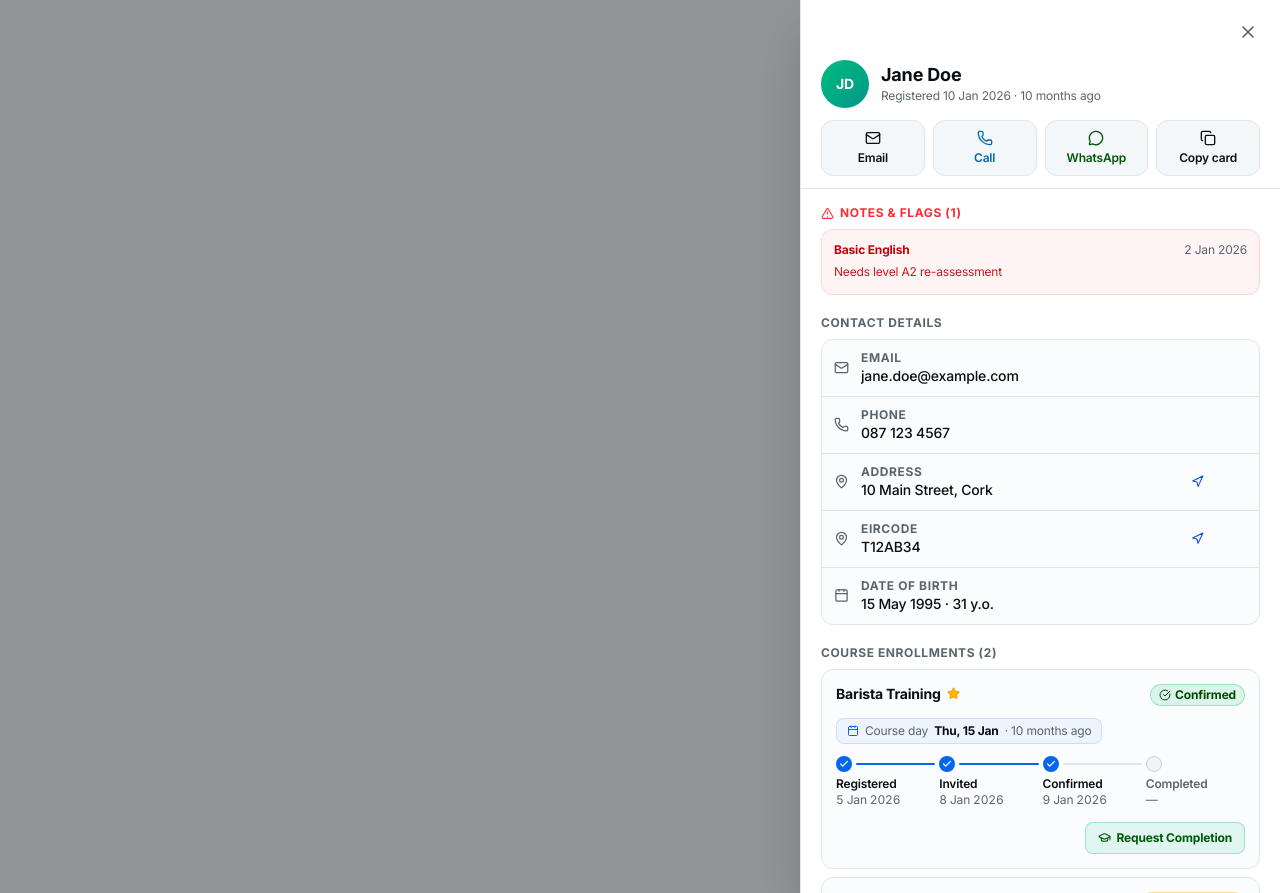
StudentDetailDrawer Component › copies a contact field on click with toast feedback
The width and height of the screenshot is (1280, 893).
Expected: the heading "Jane Doe" is shown, [881,64,962,85]
Click the button "jane.doe@example.com" at (940, 376), box [861,366,1019,386]
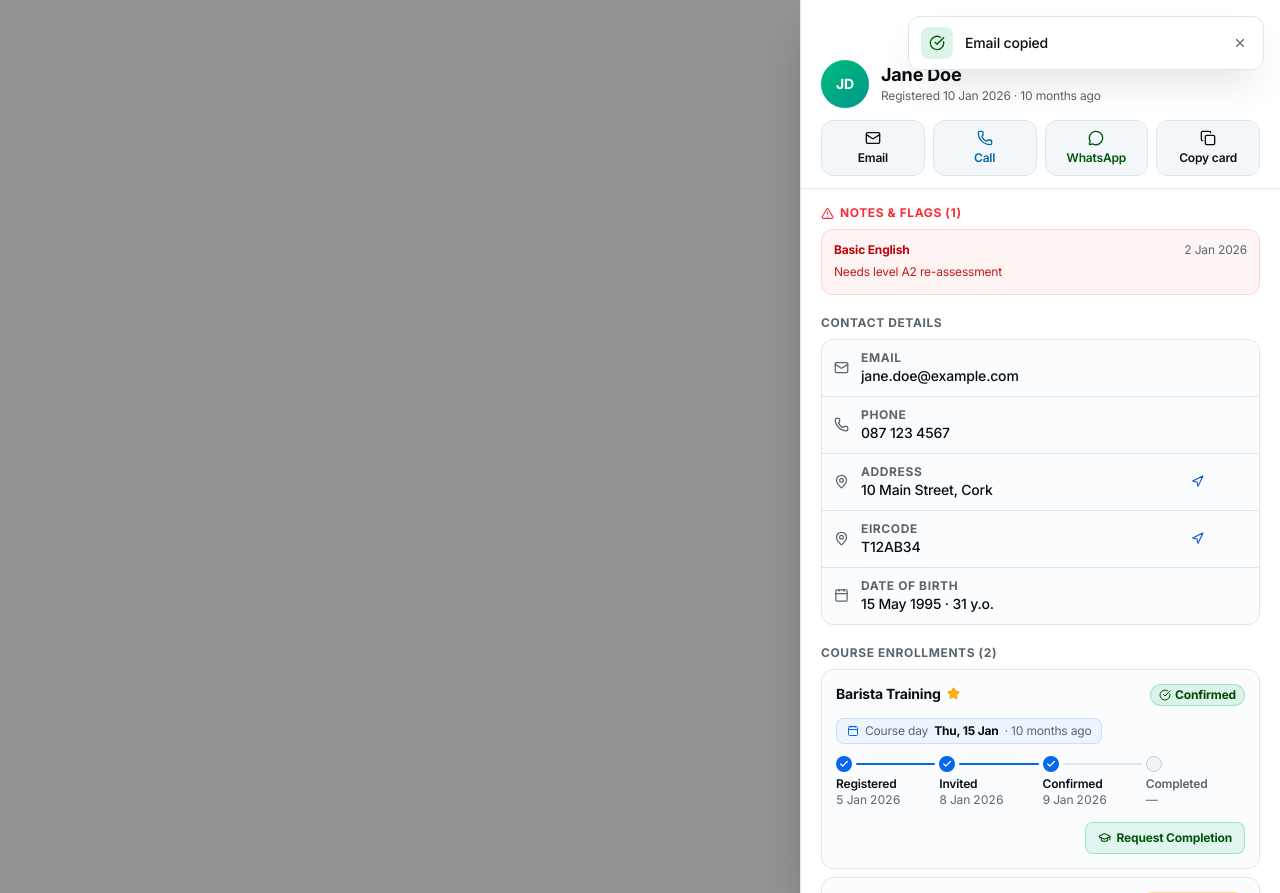
Result: the text "Email copied" is shown at [965,34,1048,51]
